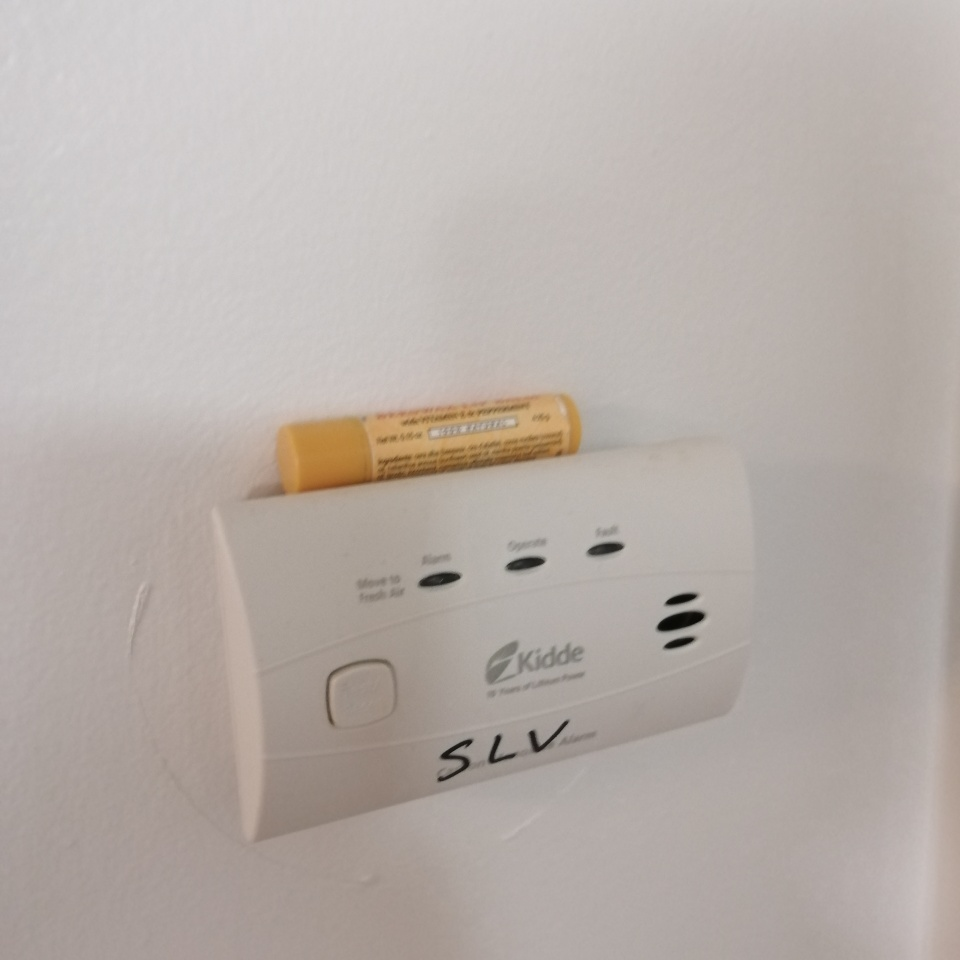chapstick: (276, 392, 585, 494)
